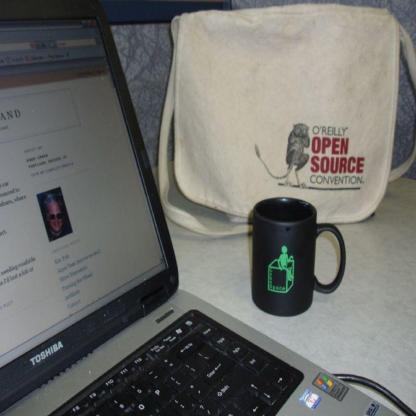board: (0, 15, 396, 416)
